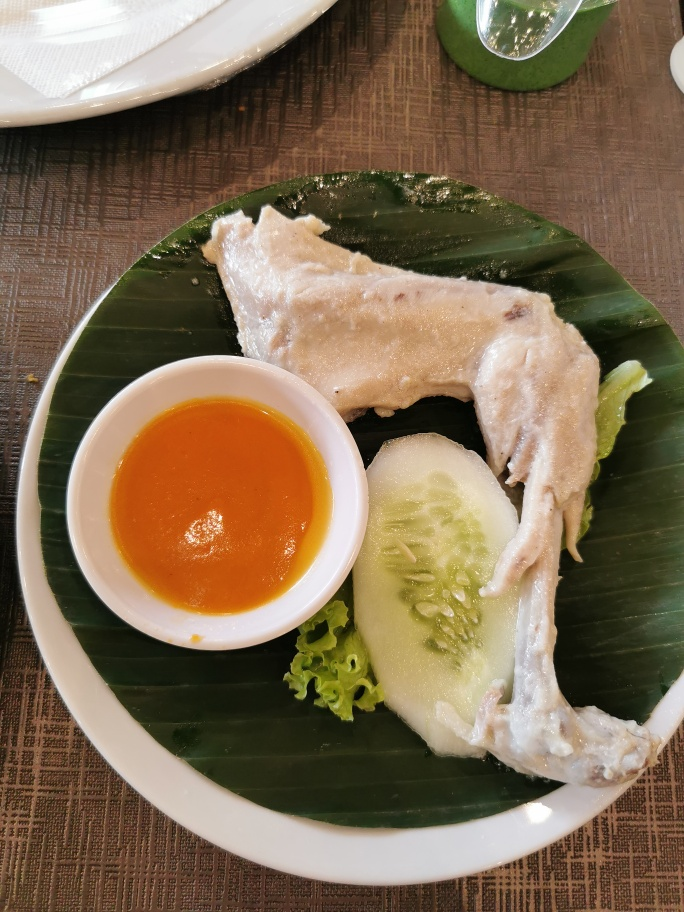ayam pop: (208, 205, 655, 801)
extra: (73, 354, 518, 770)
